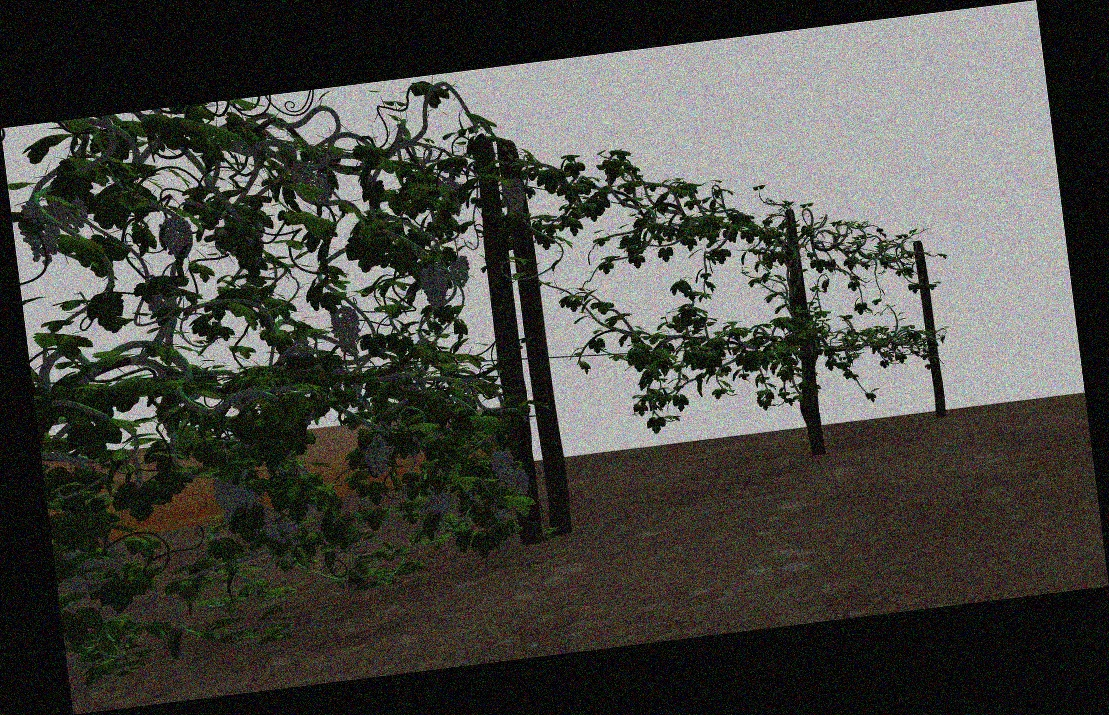grape: (21, 201, 59, 265), (331, 305, 361, 356), (48, 198, 91, 233), (213, 474, 245, 519), (421, 265, 450, 310), (164, 215, 191, 257), (364, 435, 390, 477), (502, 177, 526, 218), (266, 512, 295, 543), (505, 468, 530, 498), (491, 449, 514, 481), (449, 255, 471, 287), (428, 490, 451, 519)
